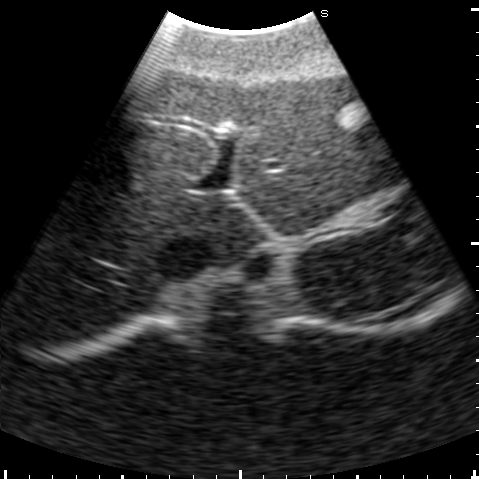IVC: (152, 234, 214, 280)
S1: (201, 196, 264, 256)
S2: (238, 160, 404, 237)
S3: (226, 73, 394, 210)
Tumor: (335, 101, 369, 129)
